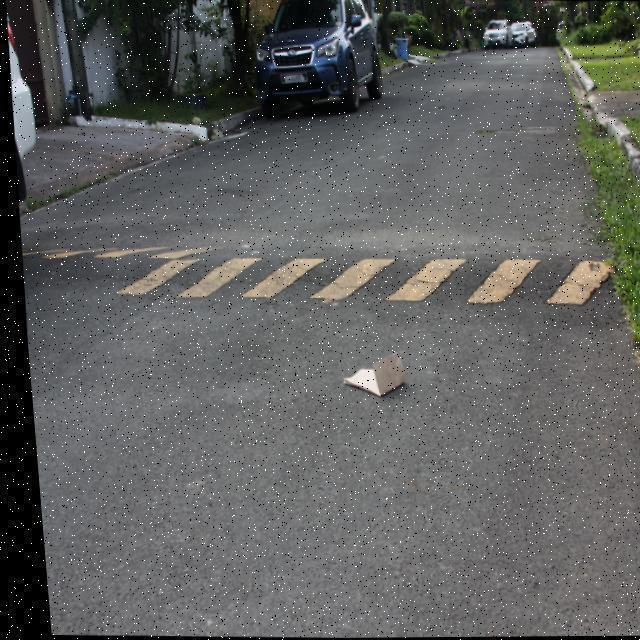Paper_Bag: (334, 352, 401, 398)
